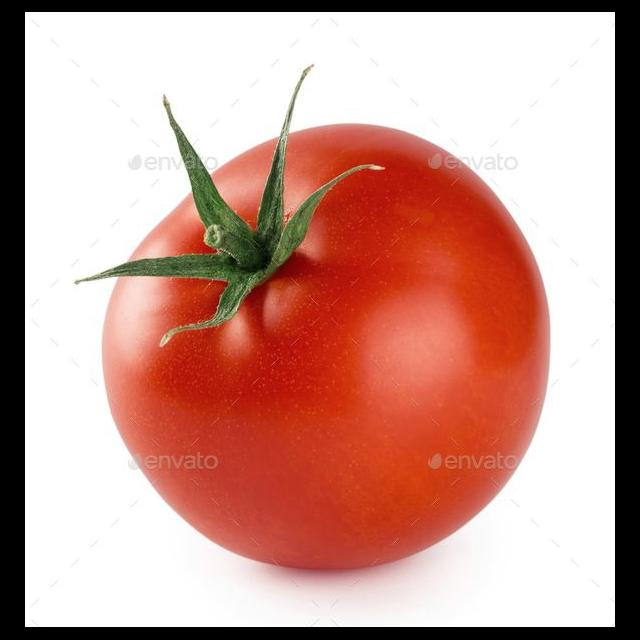tomato: (103, 126, 548, 570), (212, 140, 276, 226), (130, 194, 211, 260)
